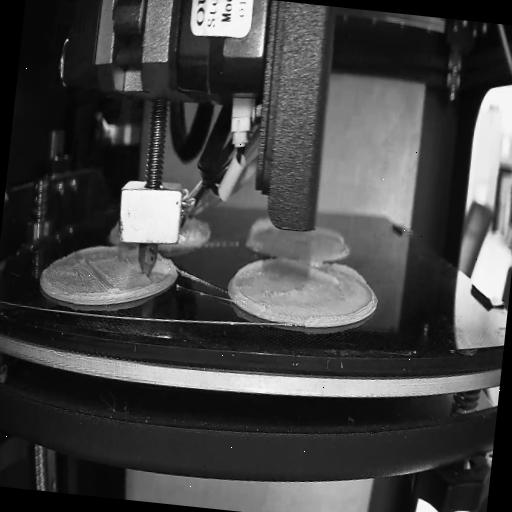over_extrusion: (276, 255, 370, 291), (229, 253, 275, 308), (249, 216, 268, 238)
